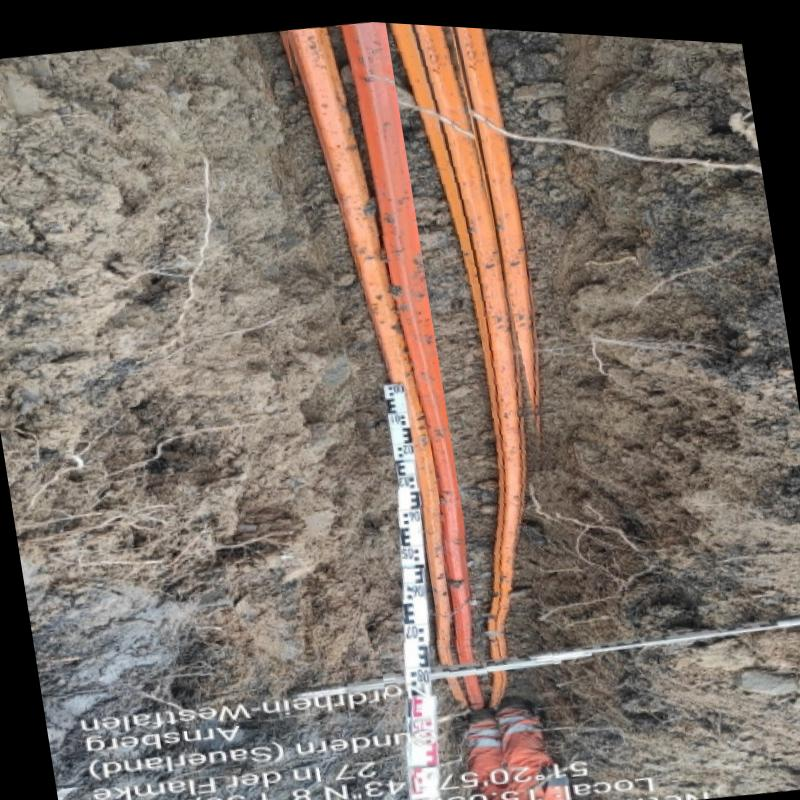Orang-Speednetrohrchen: (285, 17, 480, 701), (401, 19, 527, 693)
